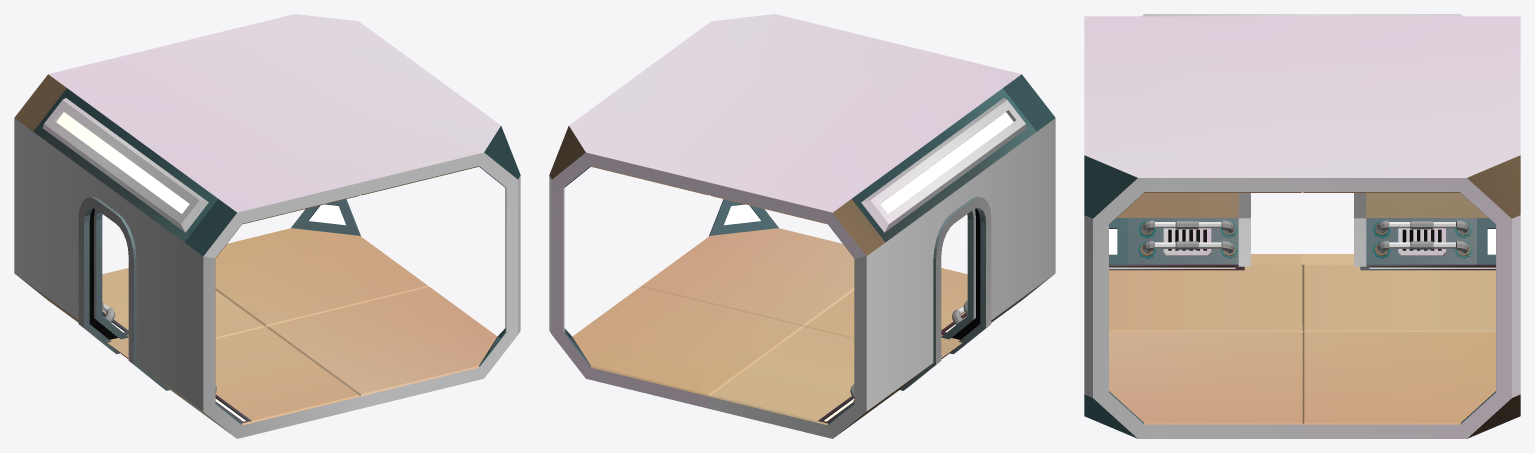
The model's file is C_3_branch_DoorOut.fbx.
3 renders of one model, left to right at view 1: azimuth 30°, elevation 25°; view 2: azimuth 150°, elevation 25°; view 3: azimuth 270°, elevation 25°, orthographic. The views are drawn at different scales.
Parts seen in each view (by area): view 1: C_3_branch_DoorOut; view 2: C_3_branch_DoorOut; view 3: C_3_branch_DoorOut.
Part boxes in pixels (x1,y1,x2,y2): C_3_branch_DoorOut: (14,14,520,438); C_3_branch_DoorOut: (549,14,1055,438); C_3_branch_DoorOut: (1084,14,1520,438).
Bounding box in the file's own units: 494 × 330 × 500.
